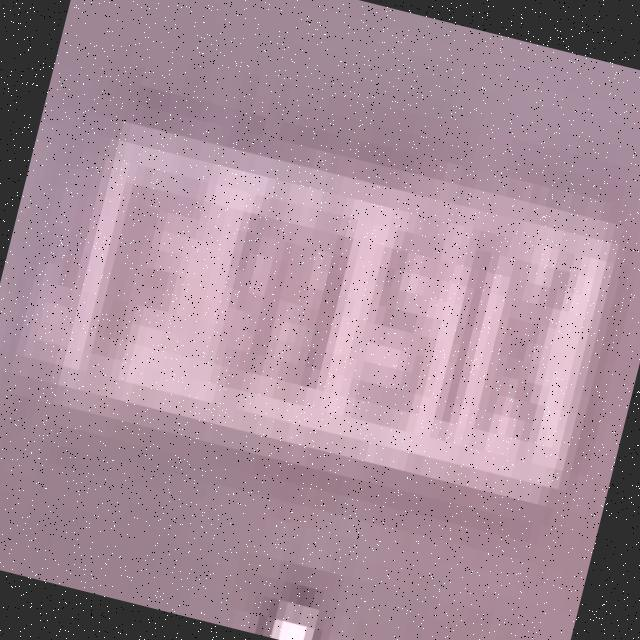Autre: (12, 90, 634, 501)
